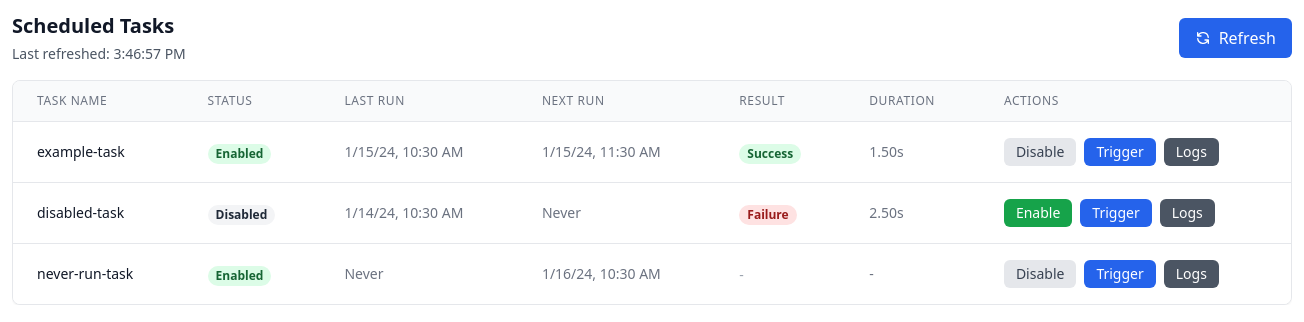
Test: ScheduledTasksTab › Enable/disable button functionality › should update UI after toggling task enabled state
The image size is (1304, 322).
Check: the text "example-task" is shown, box [37,142,125,161]
Click the button "Disable" in the row of "example-task".
click(1040, 152)  # box [1004,138,1076,166]
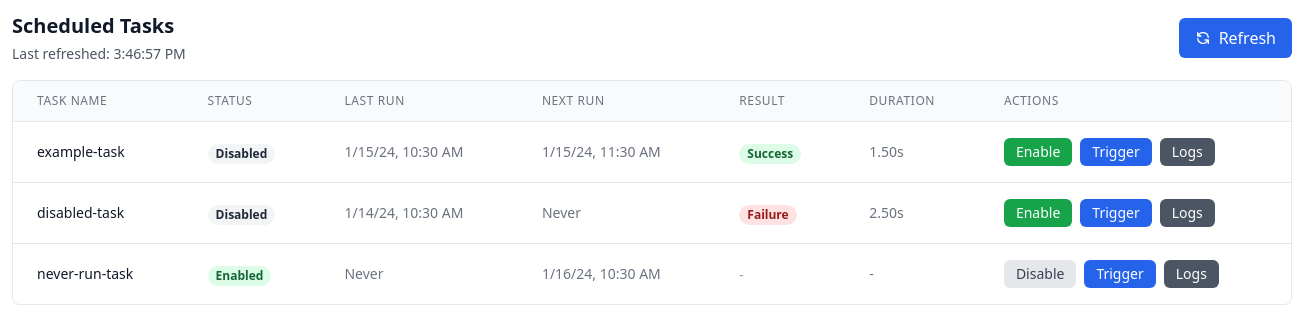
Check: the button "Enable" in the row of "example-task" is shown, box [1004,138,1072,166]
